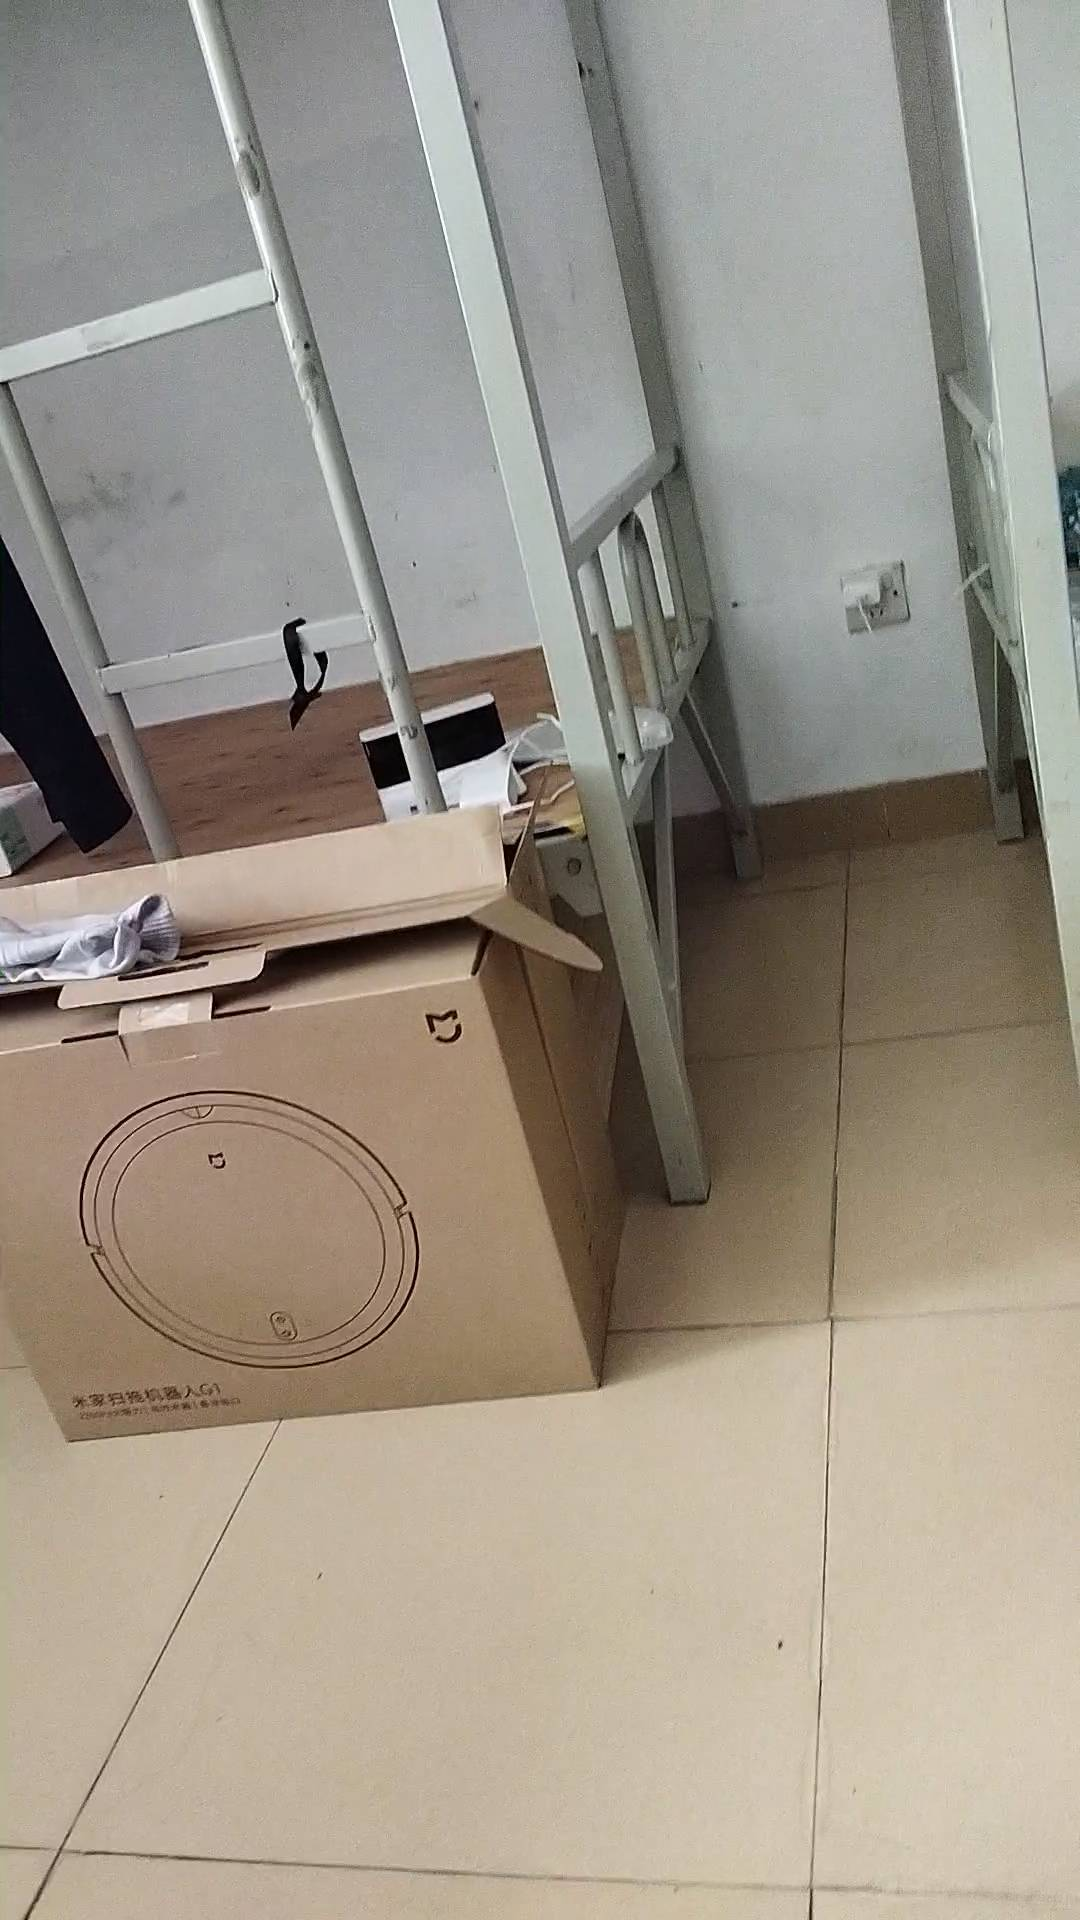recharge seat: (357, 694, 525, 822)
